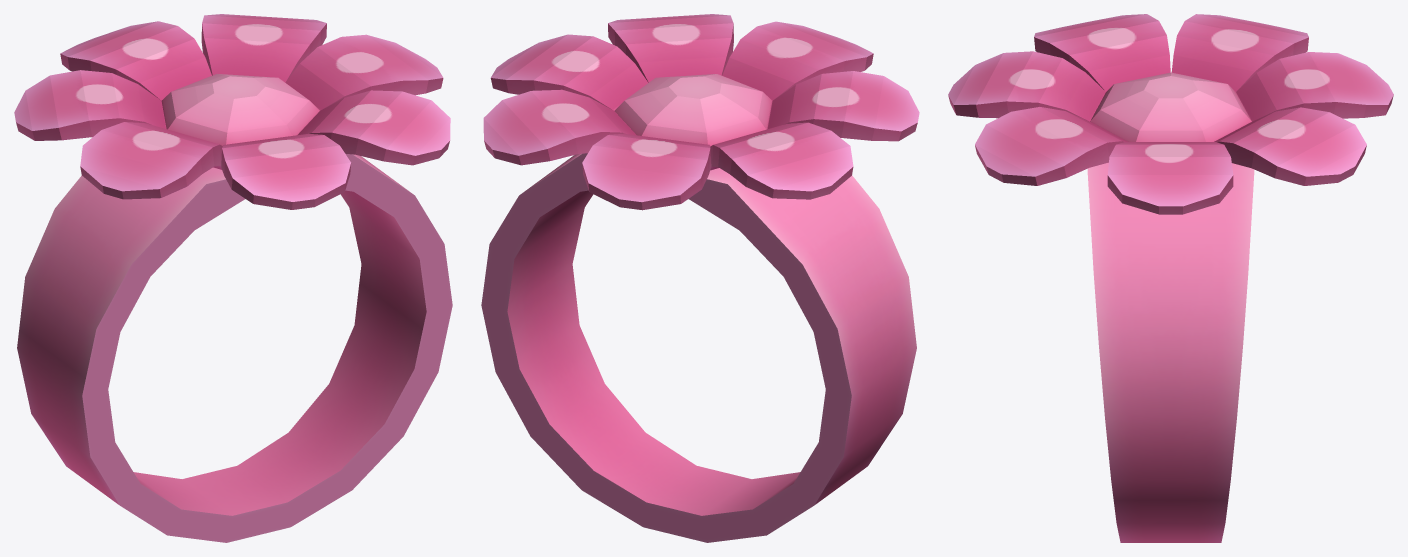
Rendered from ring.FBX.
3 renders of one model, left to right at view 1: azimuth 30°, elevation 25°; view 2: azimuth 150°, elevation 25°; view 3: azimuth 270°, elevation 25°, orthographic.
Visible parts, largest first — view 1: ring; view 2: ring; view 3: ring.
Boxes of the visible parts, x1,y1,x2,y2 form: ring: (14,14,452,542); ring: (481,14,919,542); ring: (948,14,1393,542).
Size of the model in its own units: 25.82 by 27.75 by 25.81.
